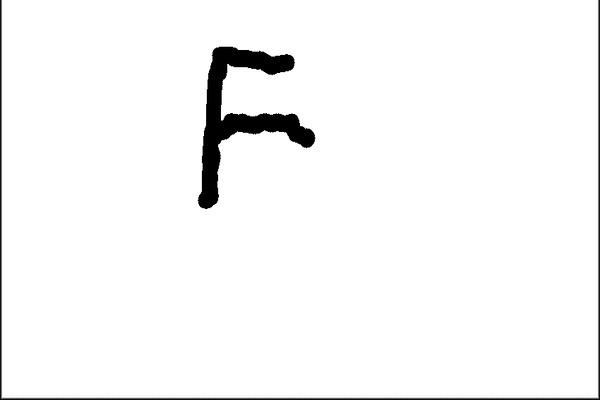F: (191, 43, 319, 211)
